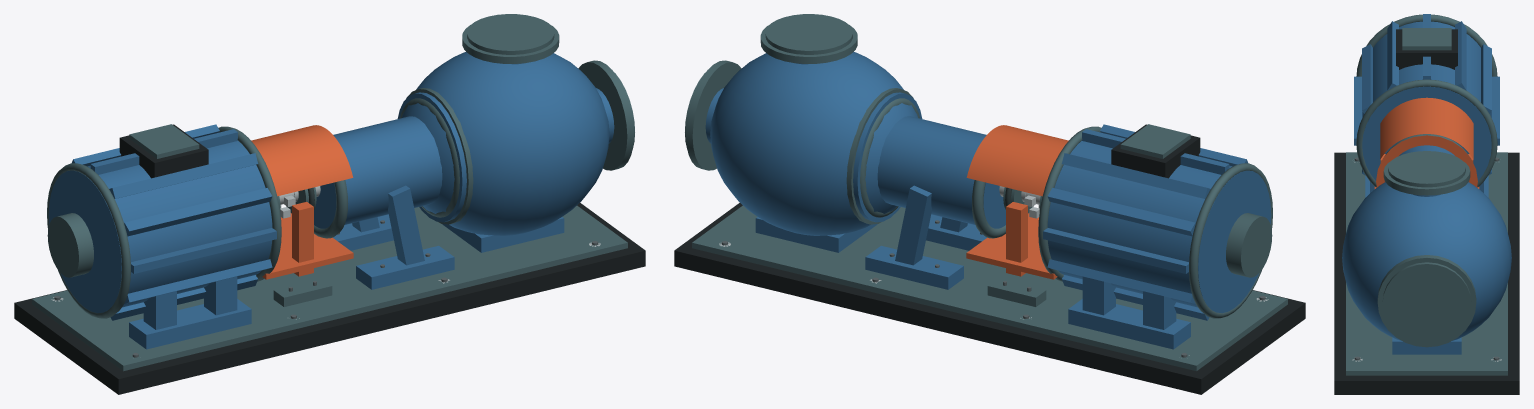
The model's file is pump_unit.glb.
3 views of the same model, side by side, from view 1: azimuth 30°, elevation 25°; view 2: azimuth 150°, elevation 25°; view 3: azimuth 270°, elevation 25° (orthographic). The views are drawn at different scales.
Parts seen in each view (by area): view 1: pump_unit__motor, volute_bulb, pump_unit__guard, pump_unit__coupling; view 2: pump_unit__motor, volute_bulb, pump_unit__guard, pump_unit__coupling; view 3: pump_unit__motor, volute_bulb, pump_unit__guard.
Part boxes in pixels (left/top/right/bottom): pump_unit__motor: left=14, top=14, right=645, bottom=394; volute_bulb: left=402, top=52, right=609, bottom=235; pump_unit__guard: left=251, top=125, right=353, bottom=306; pump_unit__coupling: left=277, top=187, right=316, bottom=218; pump_unit__motor: left=674, top=14, right=1305, bottom=394; volute_bulb: left=710, top=52, right=917, bottom=235; pump_unit__guard: left=966, top=125, right=1068, bottom=306; pump_unit__coupling: left=1003, top=187, right=1042, bottom=218; pump_unit__motor: left=1334, top=14, right=1519, bottom=394; volute_bulb: left=1342, top=182, right=1511, bottom=340; pump_unit__guard: left=1374, top=97, right=1479, bottom=188.
Bounding box in the file's own units: 3.63 × 1.37 × 1.2.
